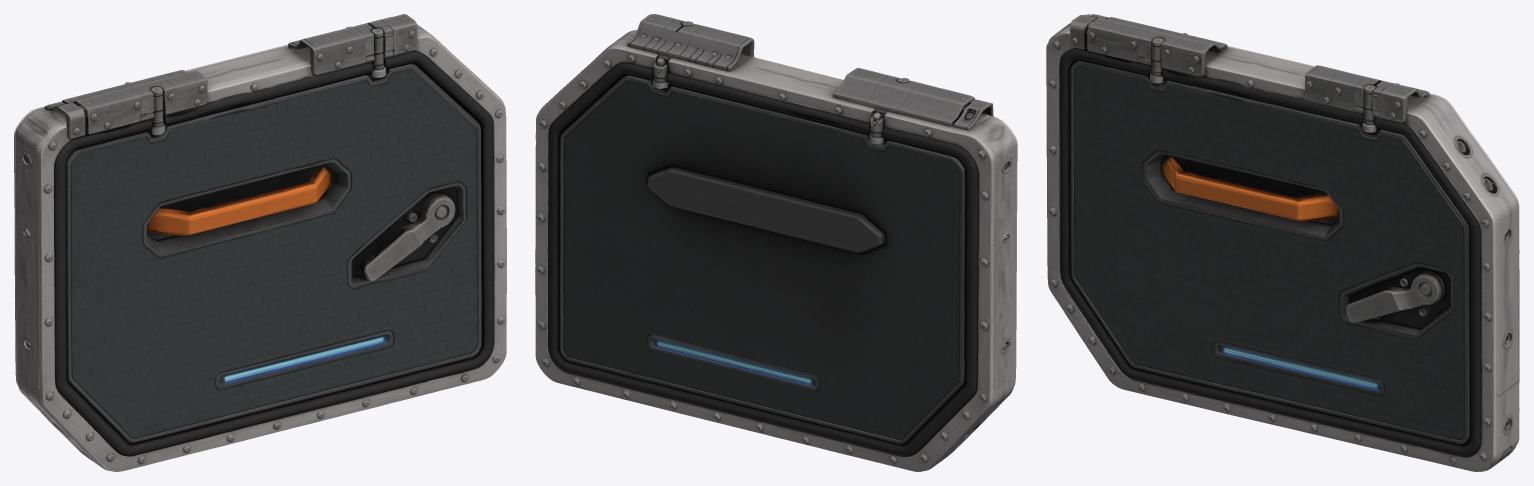
File: door.glb
The picture shows the model from 3 angles, left to right: view 1: azimuth 30°, elevation 25°; view 2: azimuth 150°, elevation 25°; view 3: azimuth 330°, elevation 25°; orthographic projection. The views are drawn at different scales.
Bounding box in the file's own units: 0.9997 × 0.7697 × 0.1433.
Materials: 1 (1 with a texture image).
